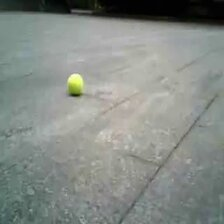tennis: (67, 74, 84, 93)
